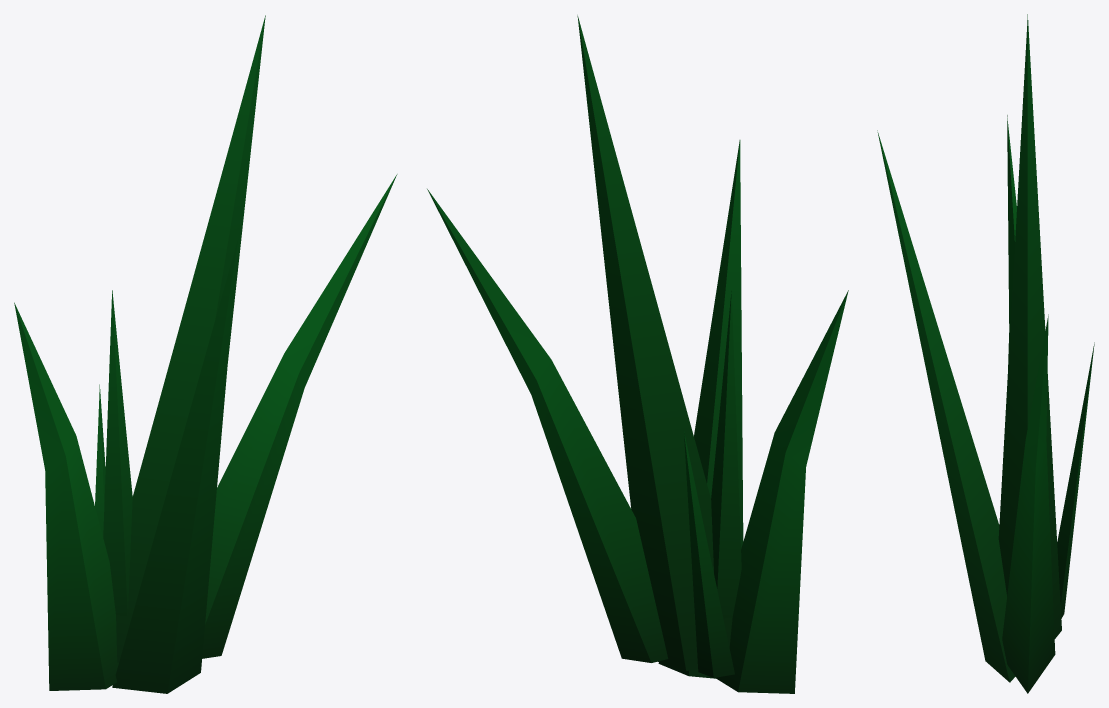
The model's file is Grass 5.fbx.
The picture shows the model from 3 angles, left to right: view 1: azimuth 30°, elevation 25°; view 2: azimuth 150°, elevation 25°; view 3: azimuth 270°, elevation 25°; orthographic projection. The views are drawn at different scales.
Parts seen in each view (by area): view 1: pCone31; view 2: pCone31; view 3: pCone31.
Part boxes in pixels (box(x1,y1,x2,y2)): pCone31: box(14, 15, 397, 693); pCone31: box(427, 15, 848, 693); pCone31: box(877, 14, 1094, 693).
Bounding box in the file's own units: 1.49 × 2.25 × 0.6243.
